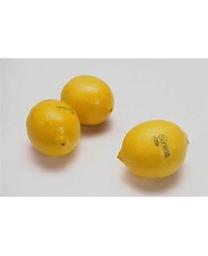lemon: (117, 121, 189, 179), (26, 99, 80, 156), (60, 75, 114, 125)
